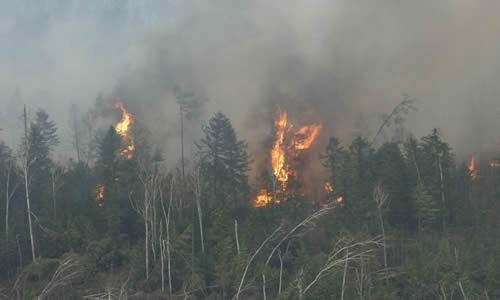fire: (253, 107, 328, 205), (113, 98, 137, 158), (465, 154, 483, 177), (94, 181, 107, 205)
